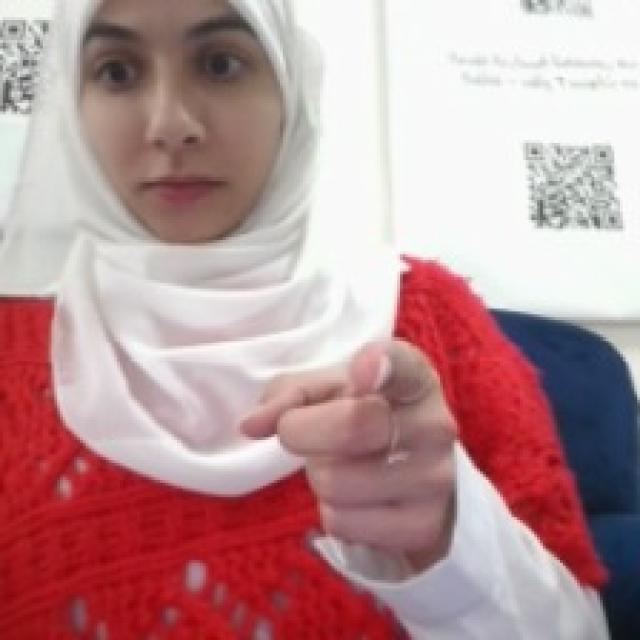you: (231, 328, 460, 563)
